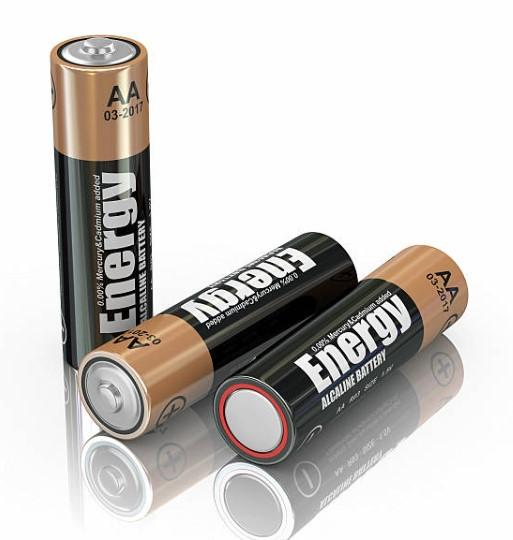Battery: (78, 234, 358, 440), (215, 246, 469, 466), (50, 34, 152, 369)
